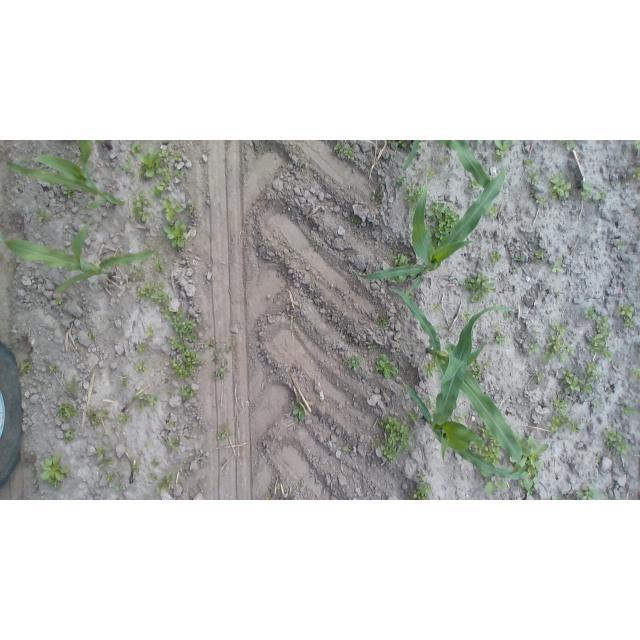Maize: (389, 285, 521, 475), (400, 306, 530, 481), (354, 153, 507, 291), (0, 216, 160, 292), (5, 141, 126, 210), (402, 140, 491, 188)
Weeds: (509, 430, 549, 496), (425, 202, 459, 250), (379, 416, 412, 461), (469, 423, 501, 468), (39, 454, 70, 489), (459, 273, 495, 303), (171, 308, 198, 343), (134, 146, 162, 179), (171, 349, 200, 380), (587, 334, 616, 362), (539, 335, 565, 363), (602, 429, 630, 455), (131, 191, 152, 222), (481, 470, 508, 494), (375, 354, 400, 379), (163, 221, 186, 248), (161, 198, 184, 223), (549, 174, 571, 200), (560, 369, 582, 394), (138, 280, 163, 300), (489, 141, 511, 162), (342, 354, 363, 376), (618, 302, 635, 328), (404, 182, 425, 203), (547, 411, 565, 434), (58, 403, 79, 422), (155, 471, 173, 493), (565, 412, 581, 435), (585, 361, 602, 382), (149, 182, 170, 199), (131, 394, 157, 407), (575, 486, 599, 500), (413, 482, 431, 500), (293, 399, 307, 422), (150, 290, 170, 306), (596, 315, 612, 333), (167, 337, 185, 352), (468, 359, 481, 379), (550, 321, 566, 337), (179, 385, 196, 400), (551, 398, 569, 412), (425, 358, 438, 377), (214, 361, 227, 380), (484, 204, 500, 219), (36, 208, 52, 223), (552, 255, 565, 273), (488, 250, 502, 266), (393, 253, 409, 267), (88, 410, 101, 427), (527, 169, 540, 186), (65, 381, 80, 395), (153, 257, 166, 273), (581, 182, 592, 200), (19, 359, 33, 373), (558, 140, 577, 150), (159, 149, 173, 162), (161, 305, 174, 319), (64, 428, 76, 443), (168, 437, 180, 451), (620, 404, 635, 415), (161, 166, 171, 182), (117, 412, 130, 424), (536, 195, 549, 207), (458, 310, 470, 323), (582, 381, 594, 394), (468, 177, 481, 189), (136, 360, 147, 374), (333, 141, 344, 155), (534, 250, 544, 265), (399, 140, 414, 150), (584, 306, 596, 318), (131, 141, 143, 153), (594, 189, 607, 200), (63, 186, 74, 199), (218, 426, 228, 440), (343, 145, 353, 159), (426, 397, 436, 411), (131, 459, 140, 474), (409, 410, 420, 422), (379, 316, 390, 328), (391, 275, 407, 283), (495, 333, 505, 345), (529, 342, 539, 354), (630, 367, 640, 379), (124, 156, 133, 169), (9, 261, 17, 275), (46, 363, 57, 373), (523, 157, 534, 167), (425, 167, 435, 178), (482, 359, 492, 370), (133, 272, 145, 281), (105, 473, 115, 483), (455, 413, 465, 423), (174, 169, 184, 179), (95, 446, 106, 455), (350, 217, 361, 226), (396, 177, 405, 188), (417, 469, 425, 481), (408, 202, 416, 214), (129, 264, 141, 272), (633, 168, 640, 181), (147, 324, 154, 337), (371, 439, 378, 452), (503, 312, 513, 321), (566, 347, 575, 357), (342, 446, 354, 453), (631, 139, 640, 148), (432, 304, 441, 313), (534, 372, 543, 381), (120, 377, 129, 386), (312, 242, 321, 251), (174, 152, 183, 161), (212, 347, 220, 357), (493, 322, 501, 332), (367, 342, 377, 350), (514, 253, 523, 261), (137, 345, 146, 353), (441, 157, 450, 165), (189, 204, 197, 213), (136, 403, 143, 413), (102, 410, 109, 419), (101, 458, 108, 467), (377, 191, 384, 200), (148, 473, 156, 480), (55, 298, 63, 305), (168, 419, 177, 425), (405, 290, 411, 299), (116, 485, 123, 492), (88, 333, 95, 340), (109, 456, 115, 464), (529, 189, 535, 197), (594, 454, 600, 462), (152, 460, 159, 466), (593, 401, 599, 408), (392, 140, 399, 146), (390, 245, 396, 252), (284, 206, 292, 211), (143, 244, 151, 249), (476, 140, 485, 144), (618, 241, 624, 247), (601, 493, 607, 499), (436, 140, 442, 146), (551, 496, 558, 501), (61, 248, 68, 253), (206, 341, 211, 347), (437, 325, 443, 330), (397, 339, 403, 344), (414, 343, 419, 349), (109, 165, 114, 171), (561, 308, 566, 313), (534, 330, 539, 335), (566, 340, 571, 345), (489, 176, 494, 181), (209, 234, 215, 238), (623, 179, 629, 183), (562, 498, 573, 500), (146, 441, 151, 445), (318, 396, 323, 400), (411, 273, 416, 277), (370, 192, 374, 196), (167, 390, 171, 393), (60, 392, 64, 395), (556, 291, 560, 294), (418, 145, 421, 149), (513, 140, 518, 142), (383, 141, 385, 146)
